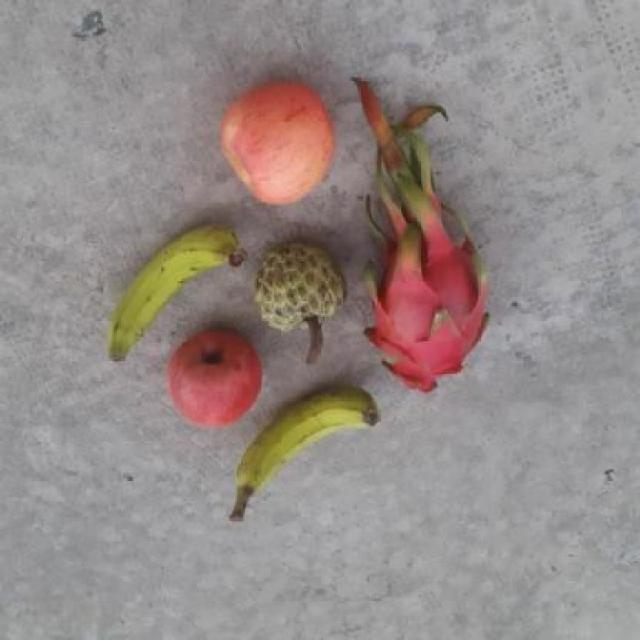apple: (219, 76, 344, 209), (160, 331, 272, 431)
banana: (106, 224, 256, 367), (234, 390, 388, 504)
dragon fruit: (356, 216, 496, 396)
sugar apple: (245, 236, 348, 336)
